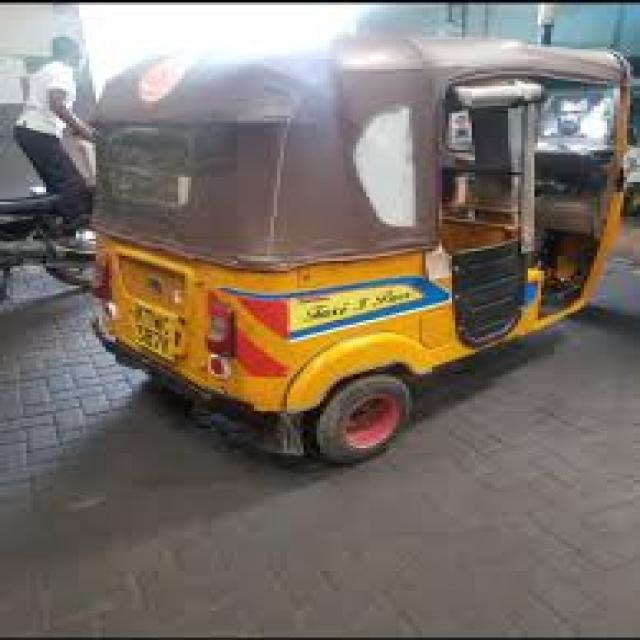tuktuk: (54, 11, 640, 485)
